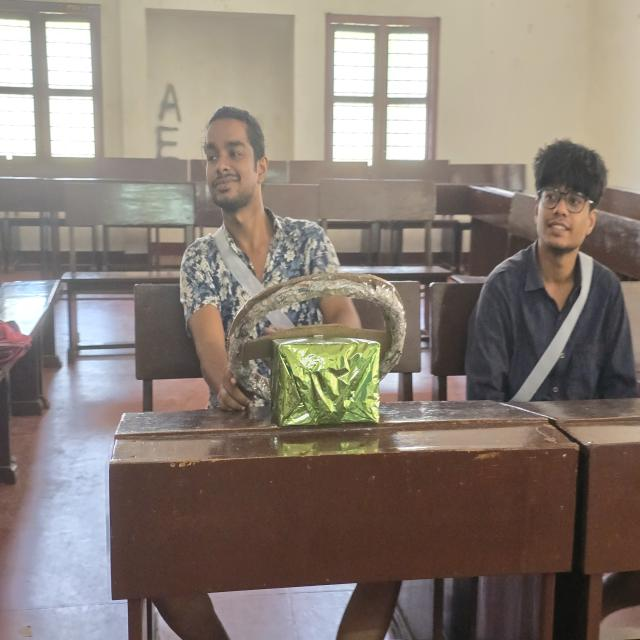seatbelt: (195, 226, 335, 340), (493, 259, 611, 386)
